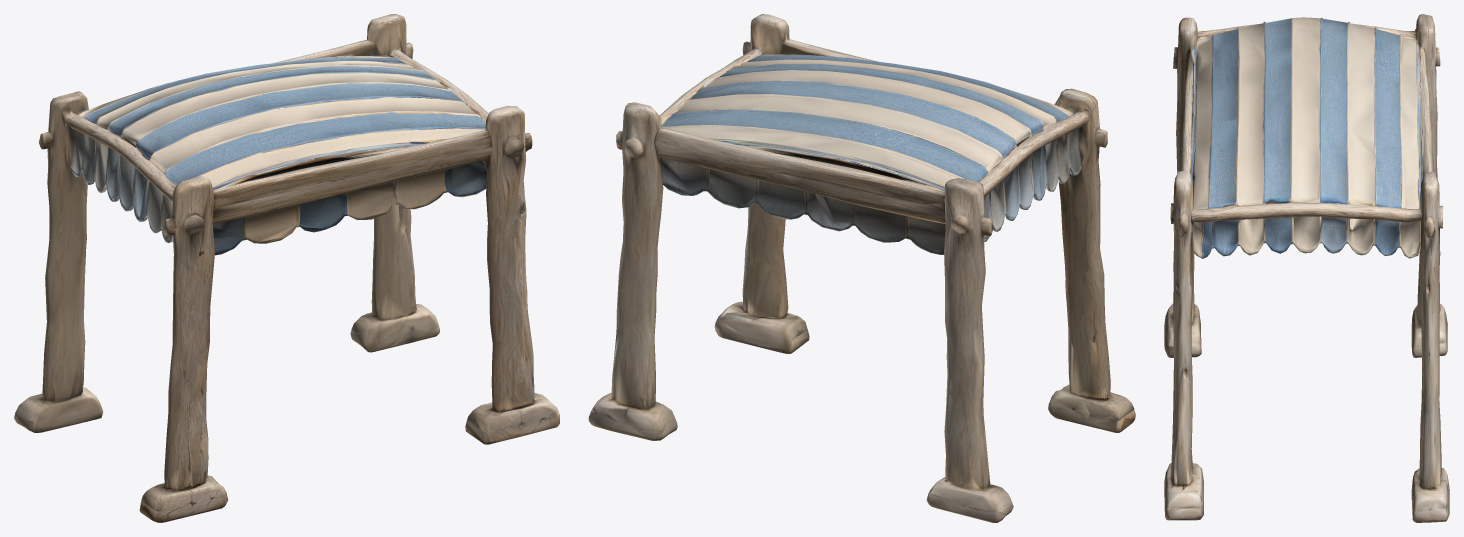
File: shelter-v1.glb
3 renders of one model, left to right at view 1: azimuth 30°, elevation 25°; view 2: azimuth 150°, elevation 25°; view 3: azimuth 270°, elevation 25°, orthographic.
Parts seen in each view (by area): view 1: tripo_node_86f41ebb-8637-4a91-af5d-ead2cd4ea9e6; view 2: tripo_node_86f41ebb-8637-4a91-af5d-ead2cd4ea9e6; view 3: tripo_node_86f41ebb-8637-4a91-af5d-ead2cd4ea9e6.
Boxes of the visible parts, <box> form: tripo_node_86f41ebb-8637-4a91-af5d-ead2cd4ea9e6: <box>14,14,559,522</box>; tripo_node_86f41ebb-8637-4a91-af5d-ead2cd4ea9e6: <box>588,14,1135,522</box>; tripo_node_86f41ebb-8637-4a91-af5d-ead2cd4ea9e6: <box>1164,14,1449,522</box>.
Bounding box in the file's own units: 1.5 × 1.2 × 0.9001.
Materials: 1 (1 with a texture image).
